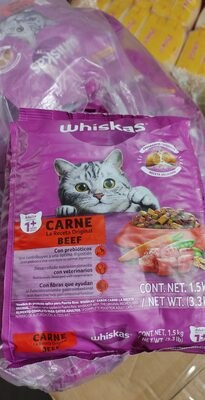Whiskas carne: (10, 20, 195, 380)
